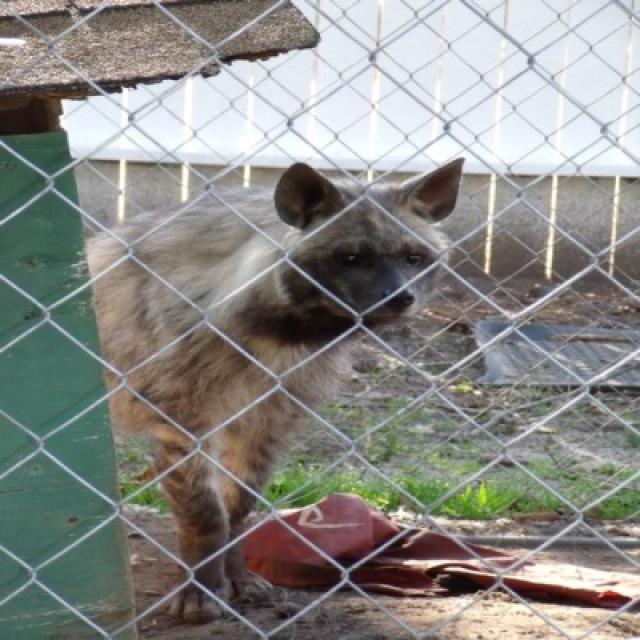hyena: (85, 158, 466, 622)
